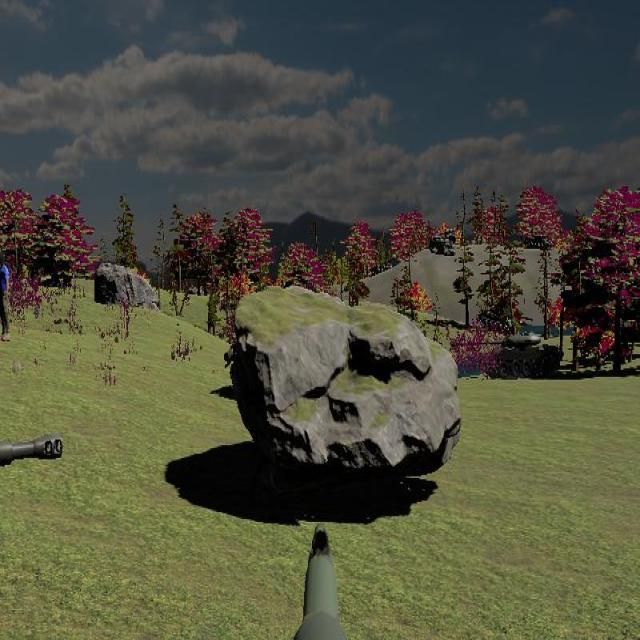Human: (0, 251, 11, 341), (0, 251, 10, 342)
Tank: (475, 329, 563, 381)
